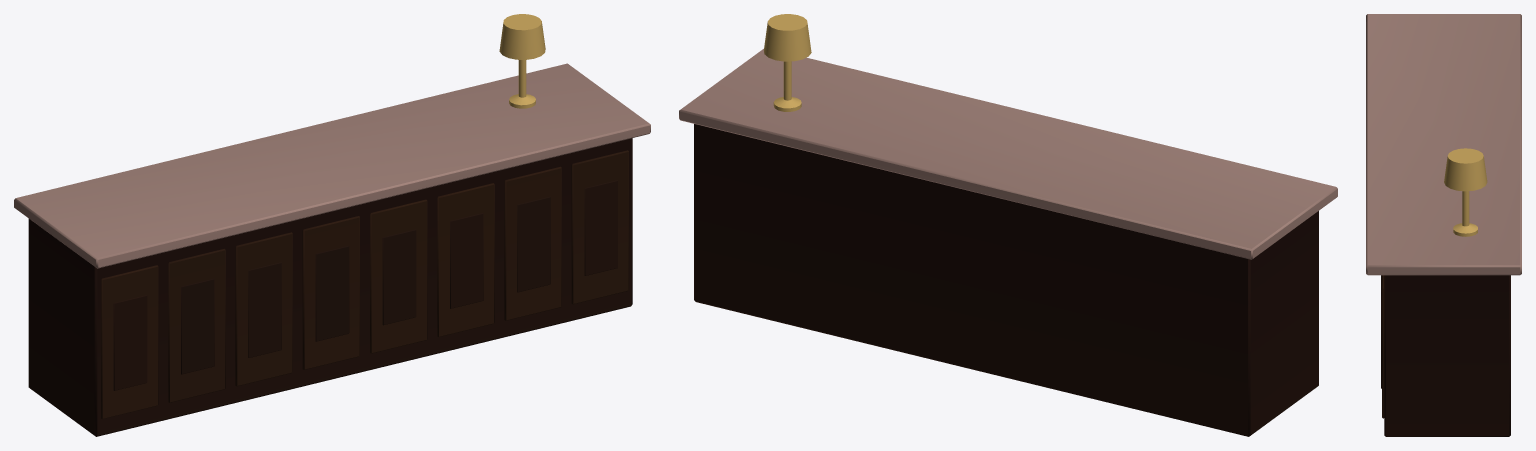
Rendered from fs-front-desk.glb.
3 renders of one model, left to right at view 1: azimuth 30°, elevation 25°; view 2: azimuth 150°, elevation 25°; view 3: azimuth 270°, elevation 25°, orthographic. The views are drawn at different scales.
Visible parts, largest first — view 1: front__wood, top__marble, lamp__brass; view 2: front__wood, top__marble, lamp__brass; view 3: top__marble, front__wood, lamp__brass.
Part boxes in pixels (x1=…): front__wood: x1=28, y1=138, x2=632, y2=436; top__marble: x1=14, y1=63, x2=650, y2=268; lamp__brass: x1=499, y1=14, x2=545, y2=108; front__wood: x1=694, y1=124, x2=1318, y2=436; top__marble: x1=679, y1=49, x2=1337, y2=259; lamp__brass: x1=764, y1=14, x2=811, y2=111; top__marble: x1=1366, y1=14, x2=1521, y2=275; front__wood: x1=1381, y1=275, x2=1510, y2=436; lamp__brass: x1=1444, y1=148, x2=1487, y2=236.
Size of the model in its own units: 3.3 by 1.53 by 0.86.
